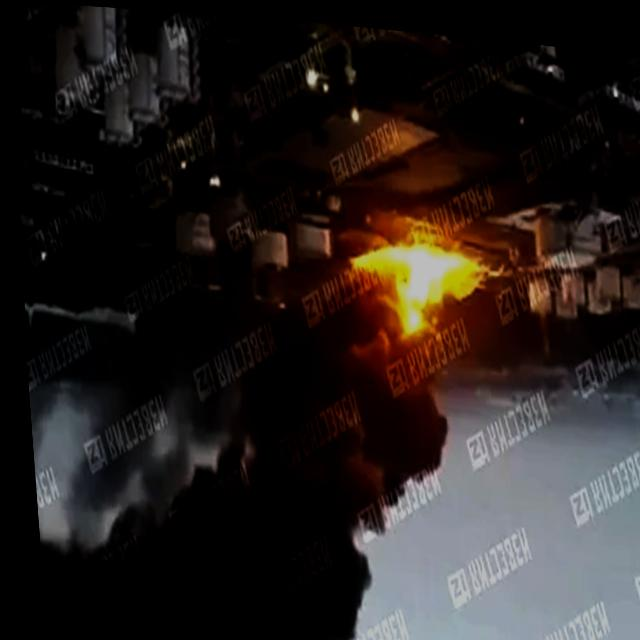Fire: (343, 218, 488, 344)
Smoke: (14, 239, 459, 640)
